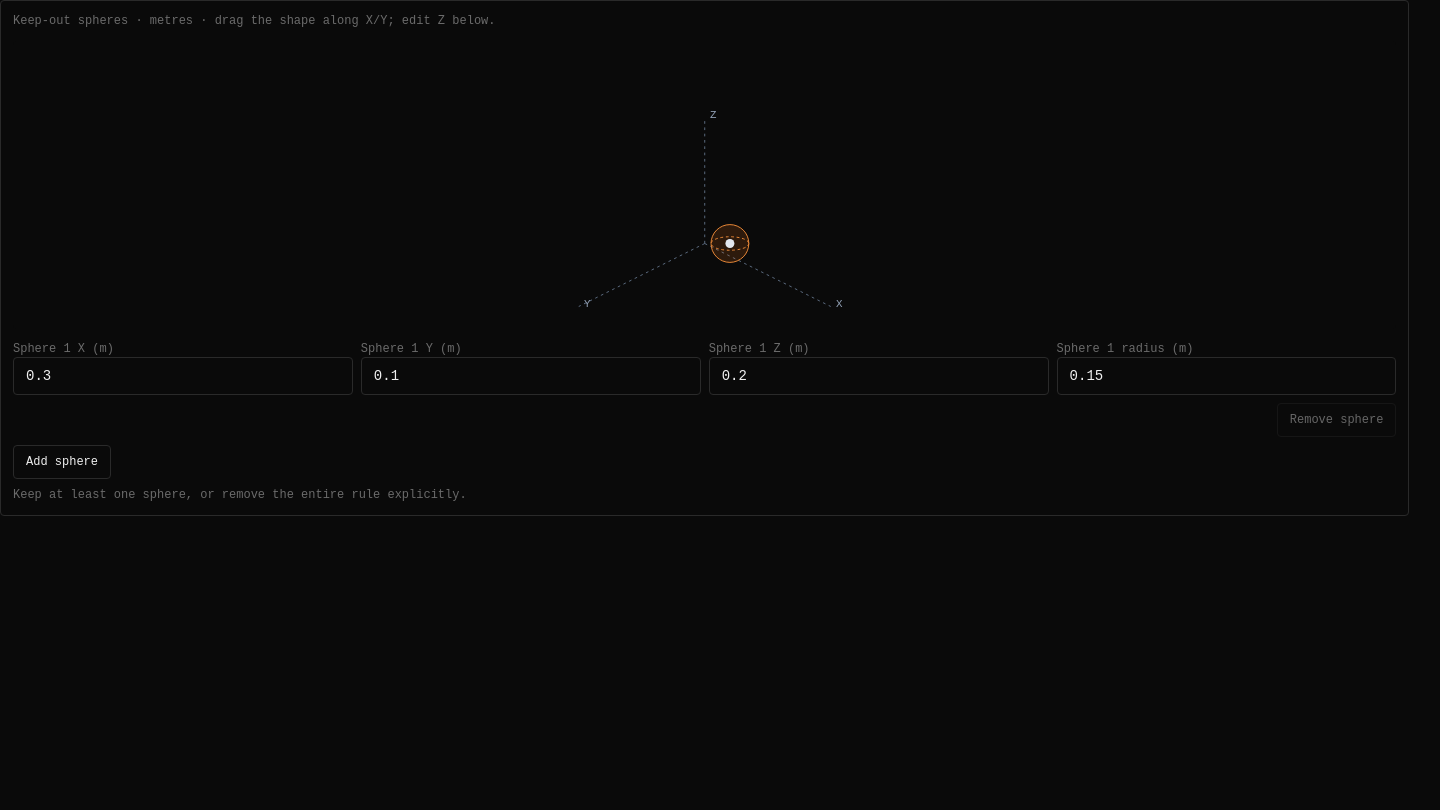
Test: adding and deleting keep-out spheres preserves remaining coordinates and keeps the last sphere explicit
Expected: the button with aria-label "Remove sphere 1" is disabled, [1277,403,1396,437]
Click the button "Add sphere".
click(62, 462)  # box [13,445,111,479]
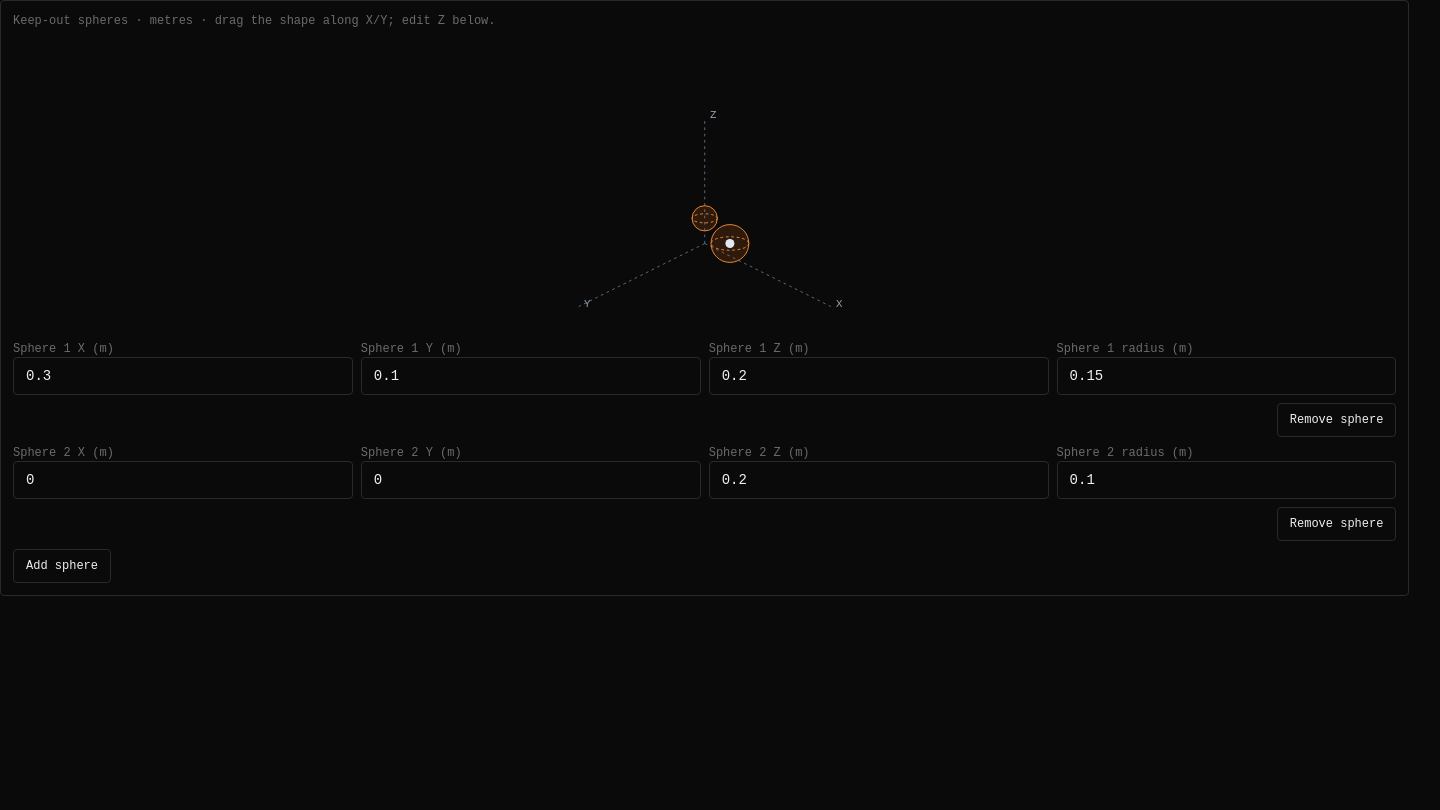
Replace the text in the number field labelled "Sphere 2 X (m)" with "0.7" at (183, 480), box [13,461,353,499]
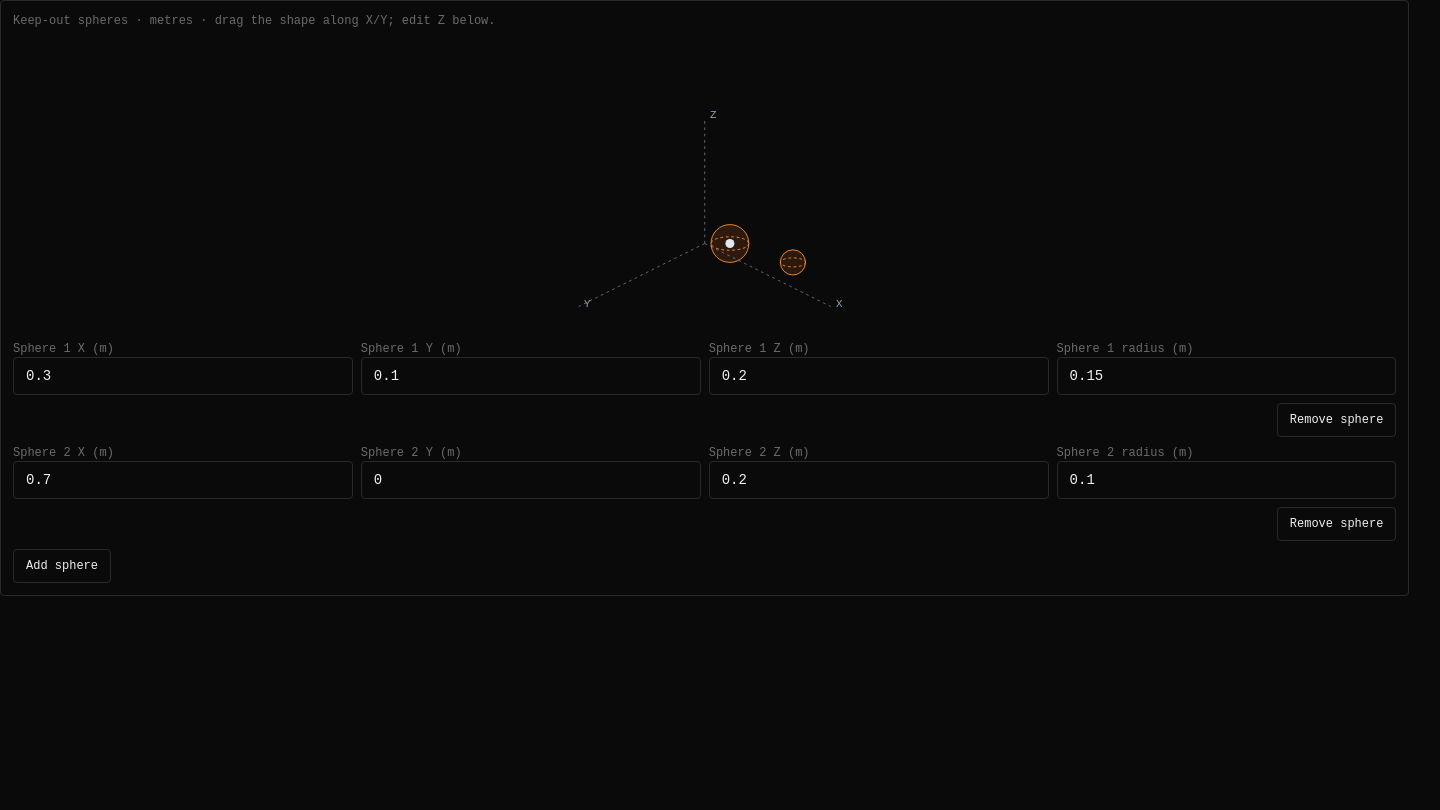
Click the button with aria-label "Remove sphere 1".
click(1337, 420)  # box [1277,403,1396,437]
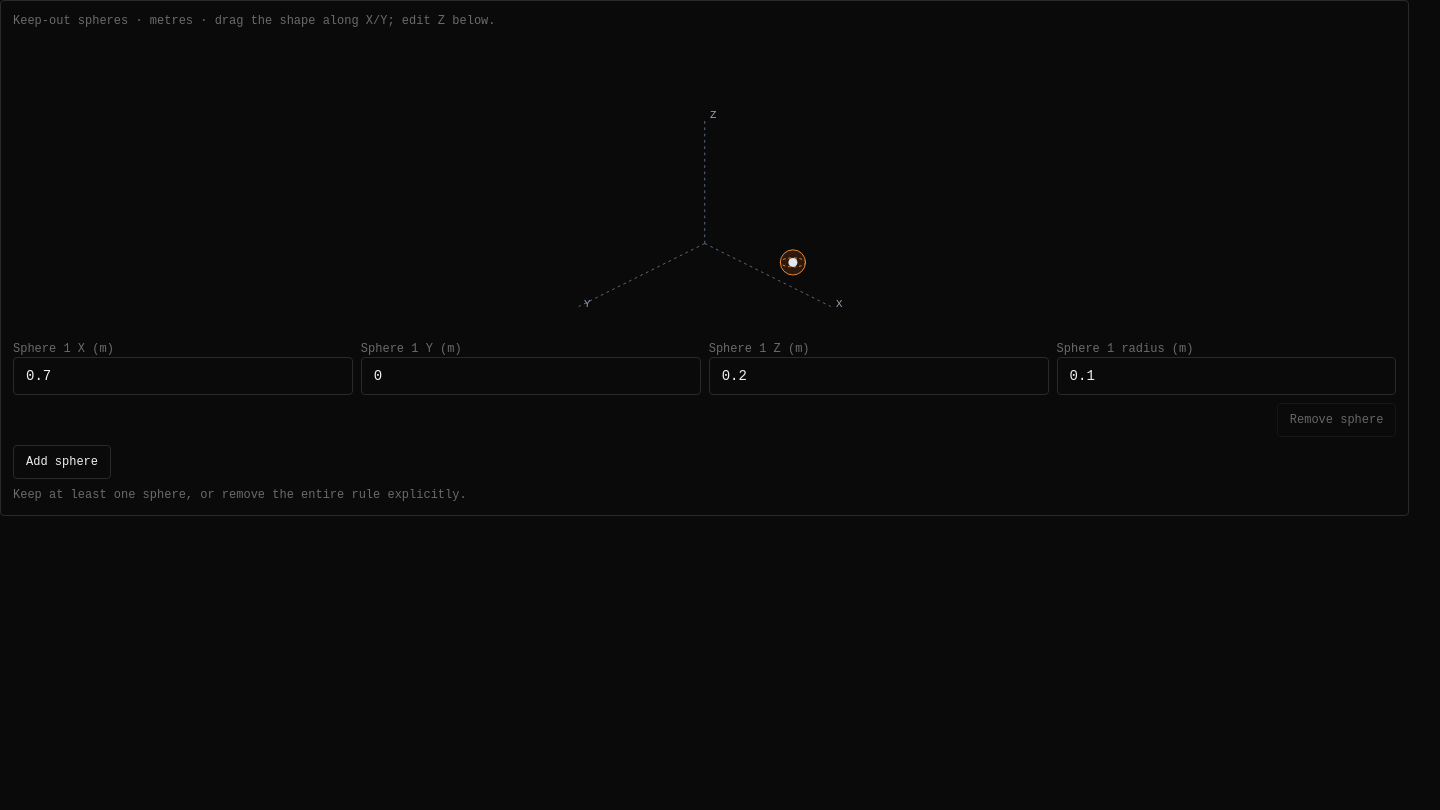
Expected: the number field labelled "Sphere 1 X (m)" holds "0.7", [13,357,353,395]
Expected: the label labelled "Sphere 2 X (m)" is gone
Expected: the button with aria-label "Remove sphere 1" is disabled, [1277,403,1396,437]
